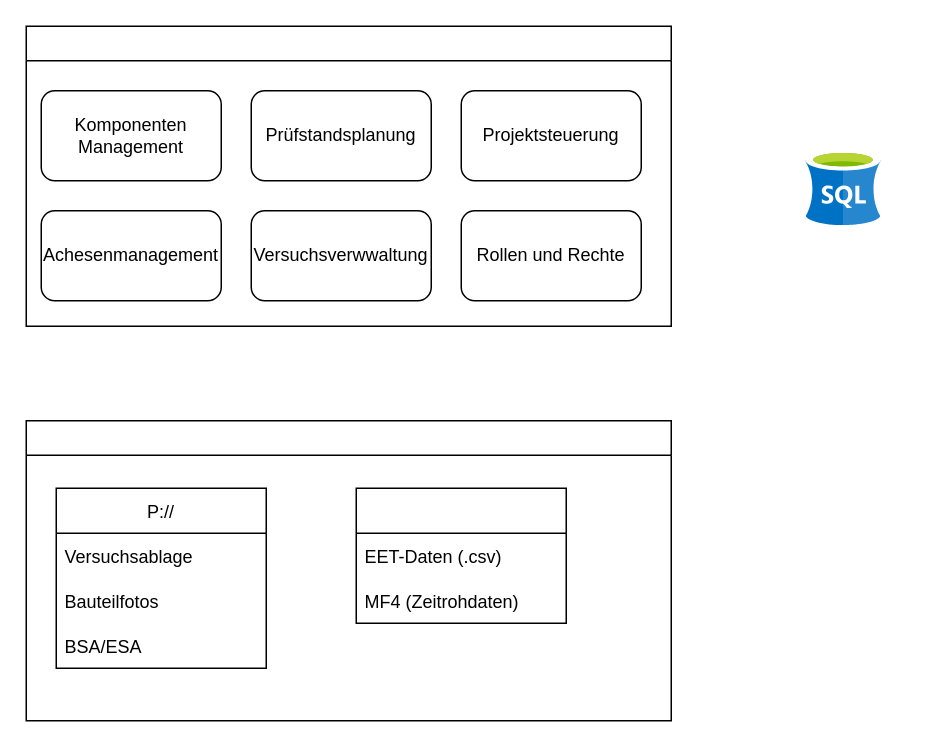
This 933x747 diagram has some shape labels left out. Each missing label, with the box of its shape:
M://: (355, 487, 566, 623)
MS-SQL-Server: (806, 150, 880, 225)
Netzlaufwerk: (25, 419, 671, 721)
NVHBrake MS-Access: (25, 25, 671, 326)
